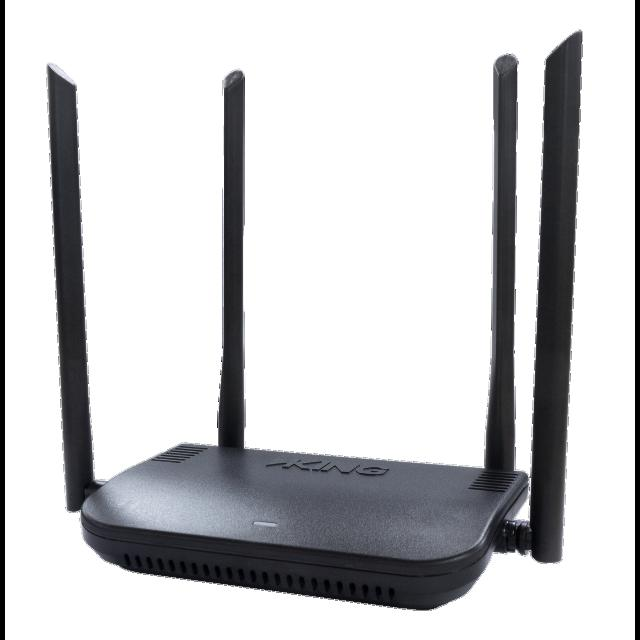Router: (49, 31, 584, 608)
